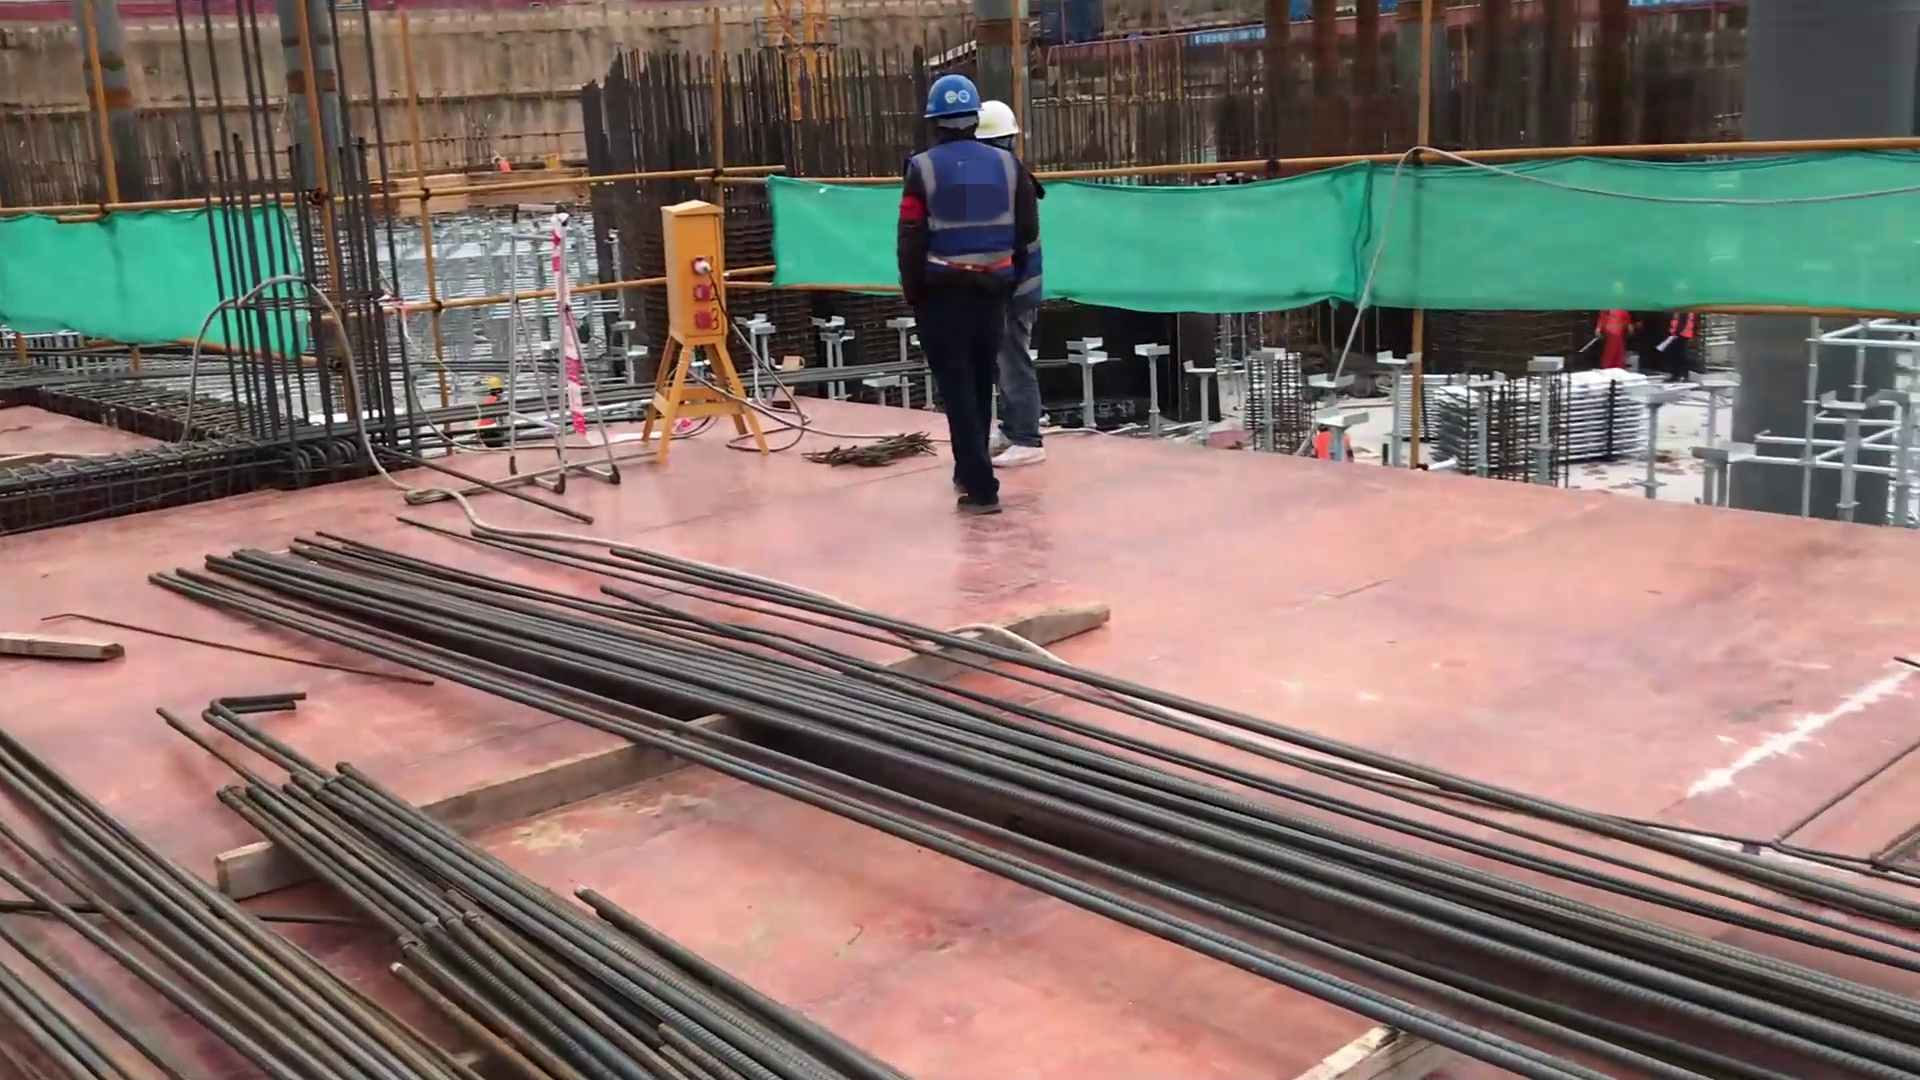ebox: (631, 190, 776, 467)
helmet: (917, 74, 991, 131), (974, 100, 1034, 153)
person: (898, 69, 1019, 531), (976, 98, 1055, 465)
rebar: (167, 524, 1919, 1074)
scaffold: (1429, 362, 1654, 472)
vest: (907, 143, 1024, 291)
